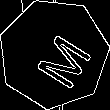M_NW: (20, 20, 87, 87)
